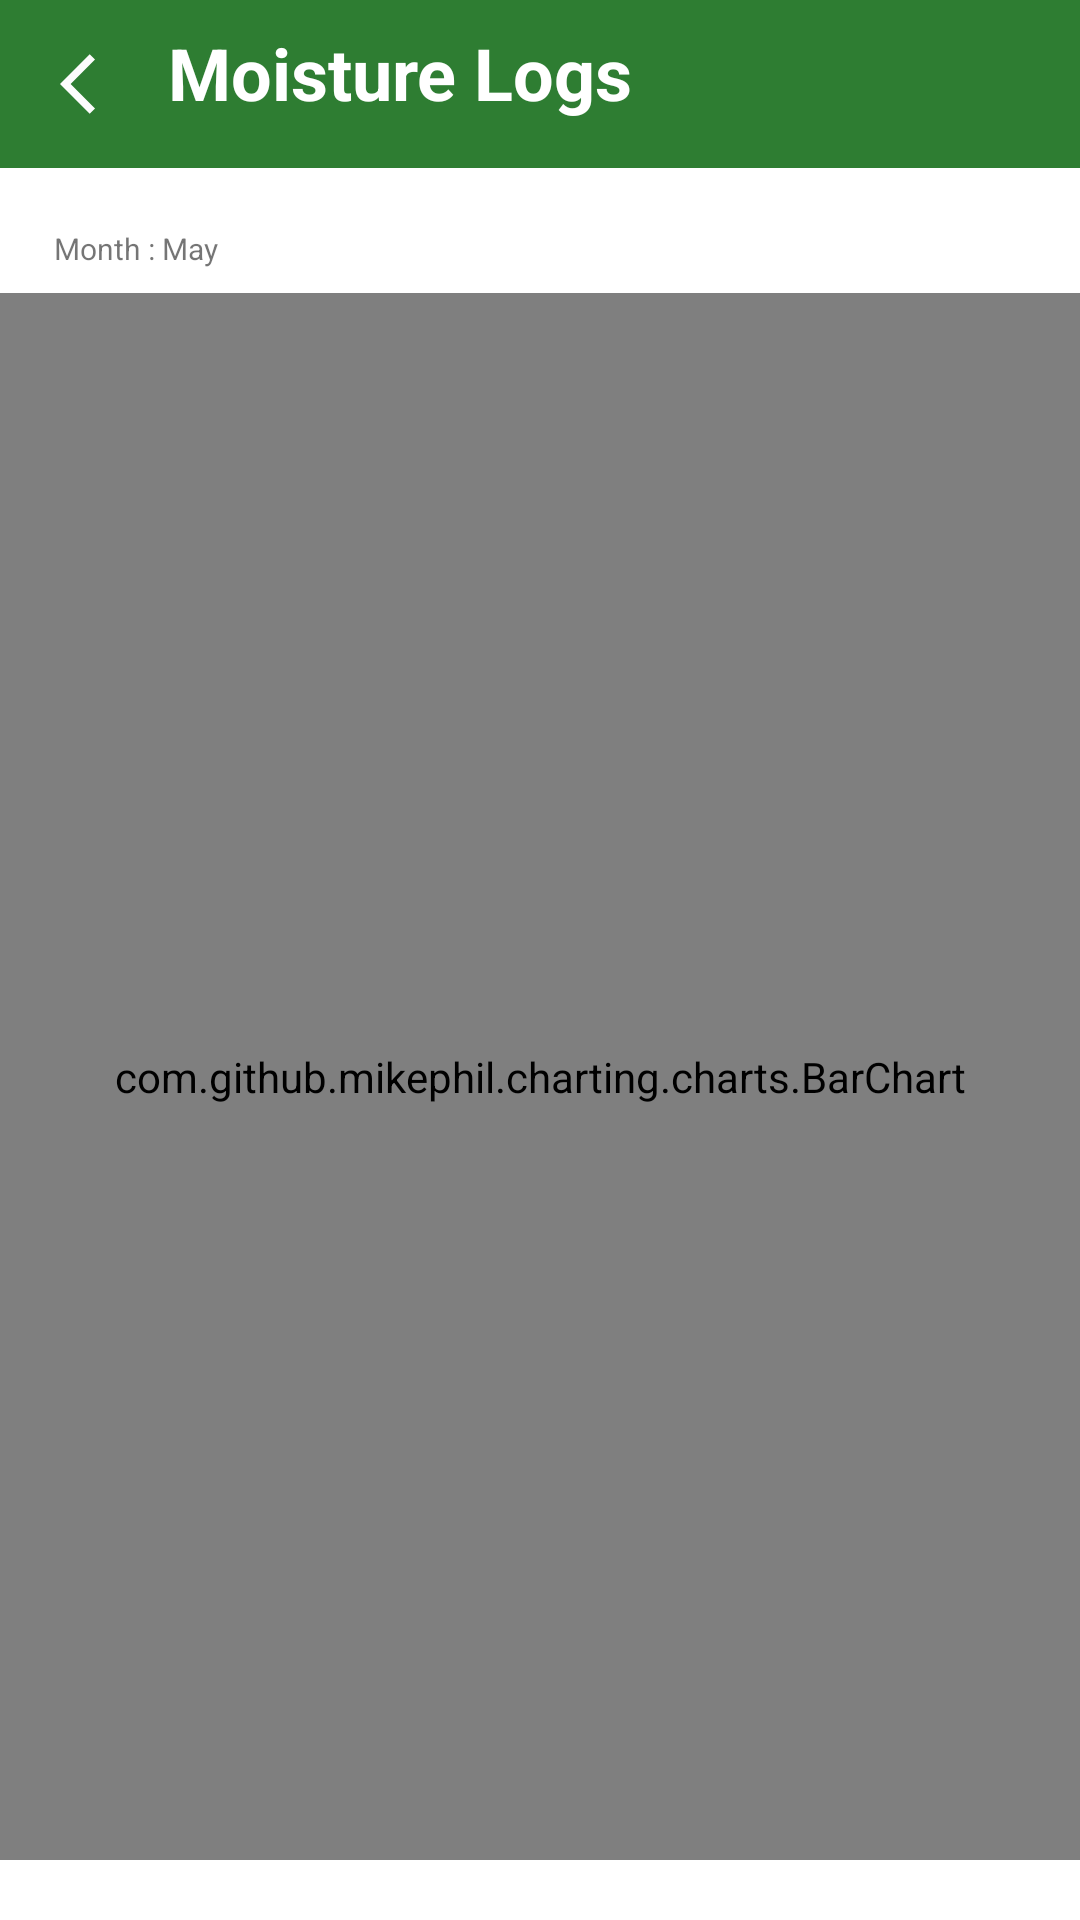

Icons on this 1080*1920 Android screen, each with its box as bbox(x1, y1, x2, y2):
arrow back: bbox(60, 54, 95, 114)
